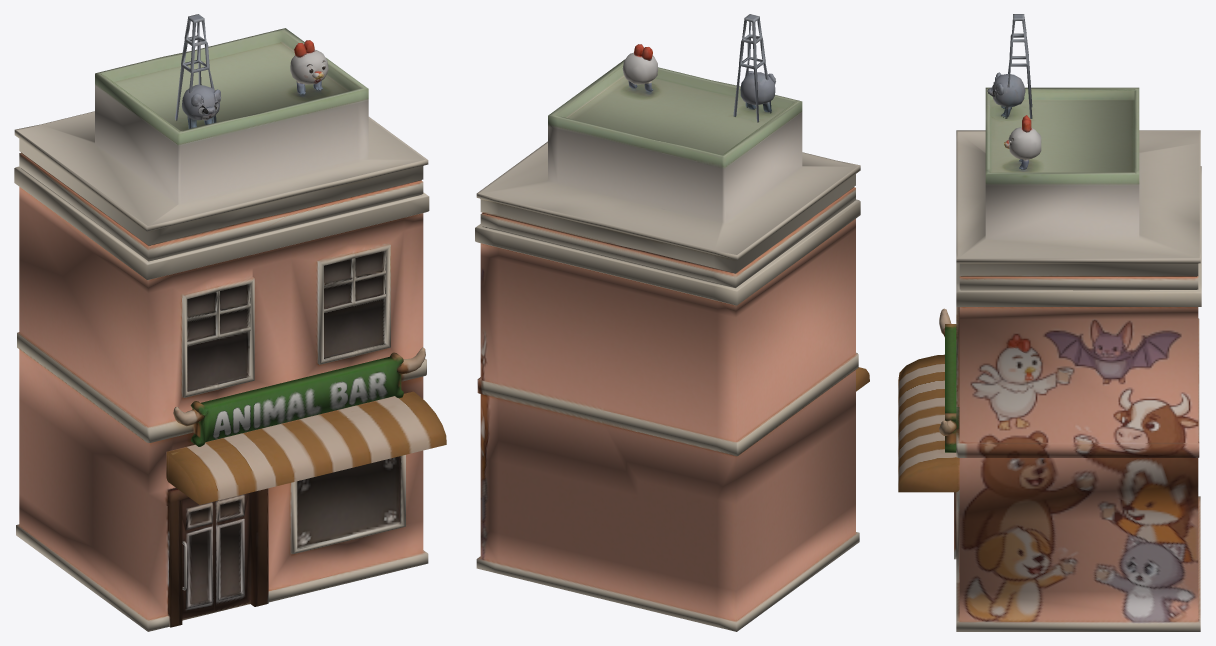
The model's file is tripo_convert_10629144-806b-434c-845b-e04ecefa51a5.fbx.
3 renders of one model, left to right at view 1: azimuth 30°, elevation 25°; view 2: azimuth 150°, elevation 25°; view 3: azimuth 270°, elevation 25°, orthographic. The views are drawn at different scales.
Visible parts, largest first — view 1: tripo_node_10629144; view 2: tripo_node_10629144; view 3: tripo_node_10629144.
Boxes of the visible parts, left/top/right/bottom form: tripo_node_10629144: left=14, top=14, right=446, bottom=631; tripo_node_10629144: left=475, top=14, right=869, bottom=631; tripo_node_10629144: left=898, top=14, right=1201, bottom=631.
Size of the model in its own units: 51.76 by 52.15 by 99.8.
Materials: 1 (1 with a texture image).
